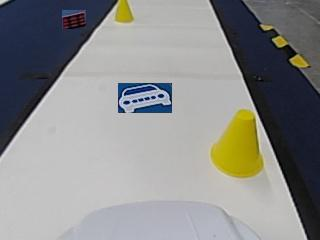cone: (210, 111, 262, 178), (114, 2, 134, 22)
